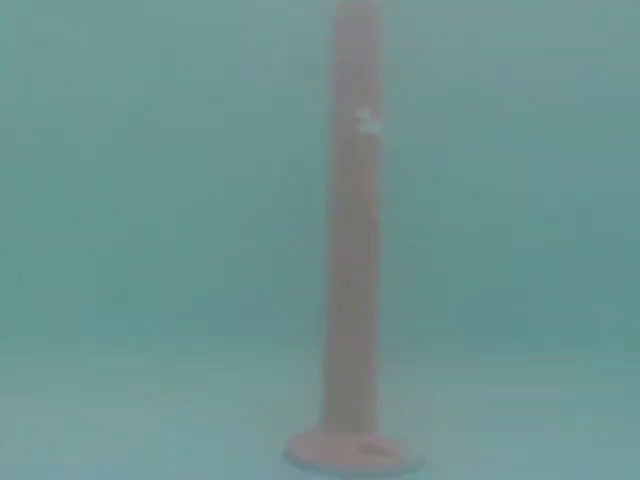flare: (272, 7, 429, 480)
